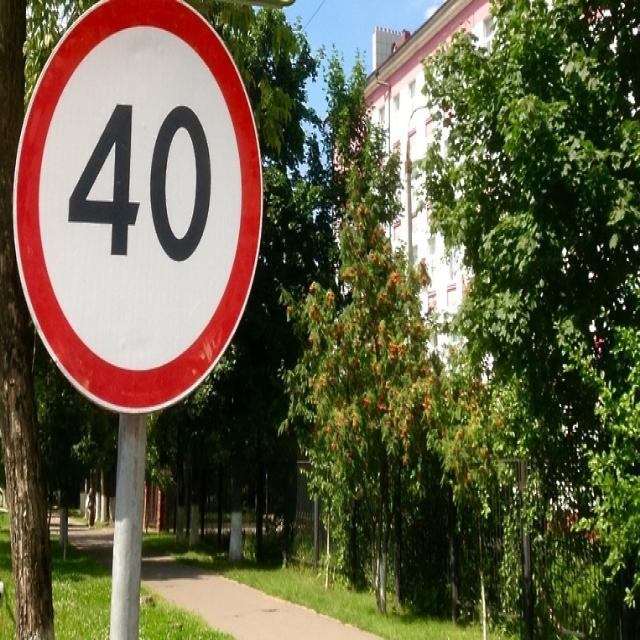speed limit 40: (8, 0, 265, 419)
